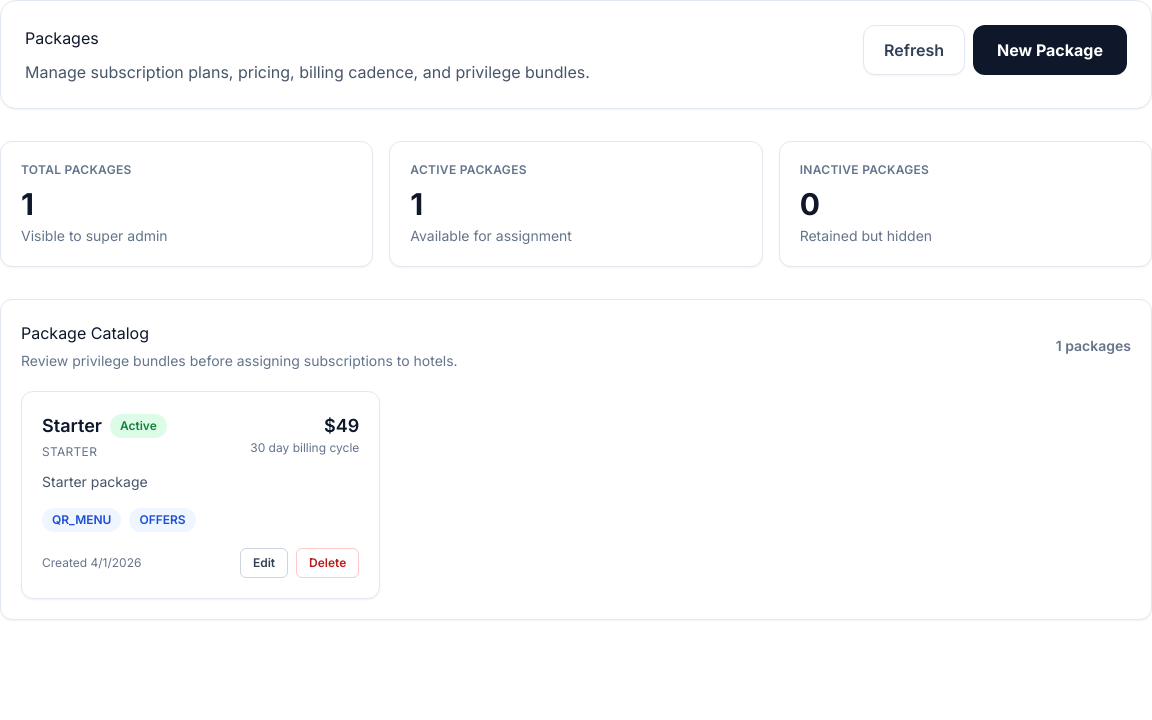
Test: PackagesPage › renders package metrics and opens the create form
Expected: the heading "Starter" is shown, [42,412,102,440]
Expected: the text "1 packages" is shown, [1056,336,1131,356]
What coordinates should you click on to do the following:
click the button "New Package"
I would click on:
 (1050, 50)
Its box is [973,25,1127,75].
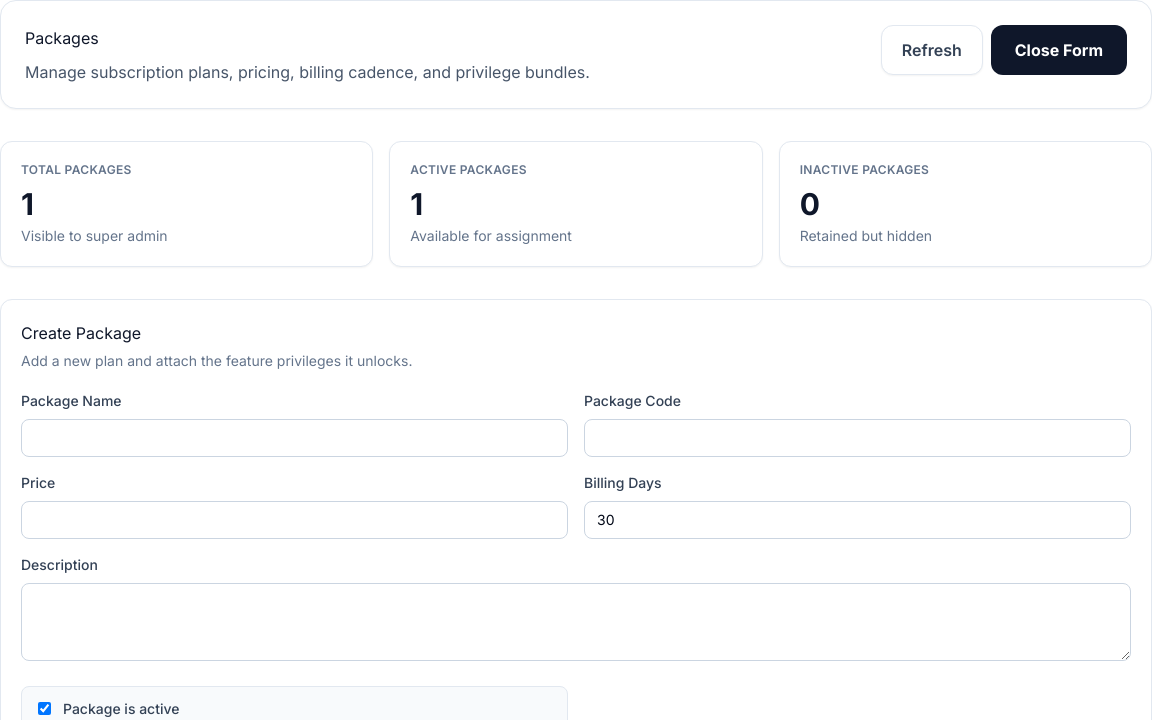
Now the heading "Create Package" is shown, box [21,323,141,343]
Now the field labelled "Package Name" is shown, box [21,419,568,457]
